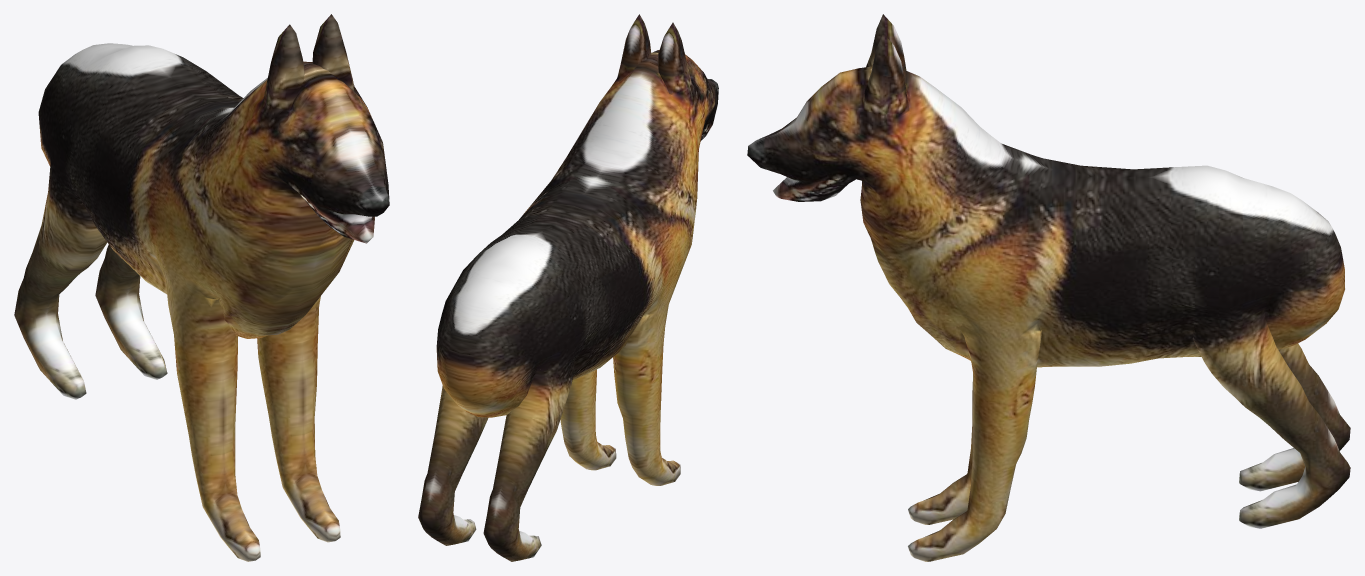
The model's file is dog_shepherd_hi.glb.
3 renders of one model, left to right at view 1: azimuth 30°, elevation 25°; view 2: azimuth 150°, elevation 25°; view 3: azimuth 270°, elevation 25°, orthographic. The views are drawn at different scales.
Visible parts, largest first — view 1: dog_shepherd_hi; view 2: dog_shepherd_hi; view 3: dog_shepherd_hi.
Boxes of the visible parts, <box> form: dog_shepherd_hi: <box>14,14,389,561</box>; dog_shepherd_hi: <box>418,14,718,561</box>; dog_shepherd_hi: <box>747,14,1350,561</box>.
Bounding box in the file's own units: 0.2776 × 0.8526 × 0.8964.
1 material, 1 textured.
